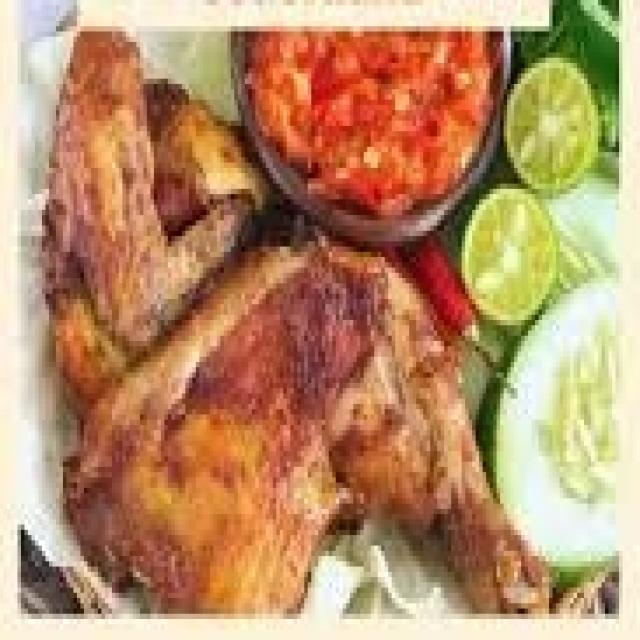Frango: (70, 246, 601, 614), (56, 31, 252, 398)
